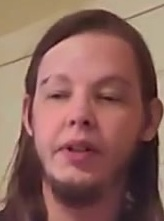eb_f: (37, 70, 135, 110)
